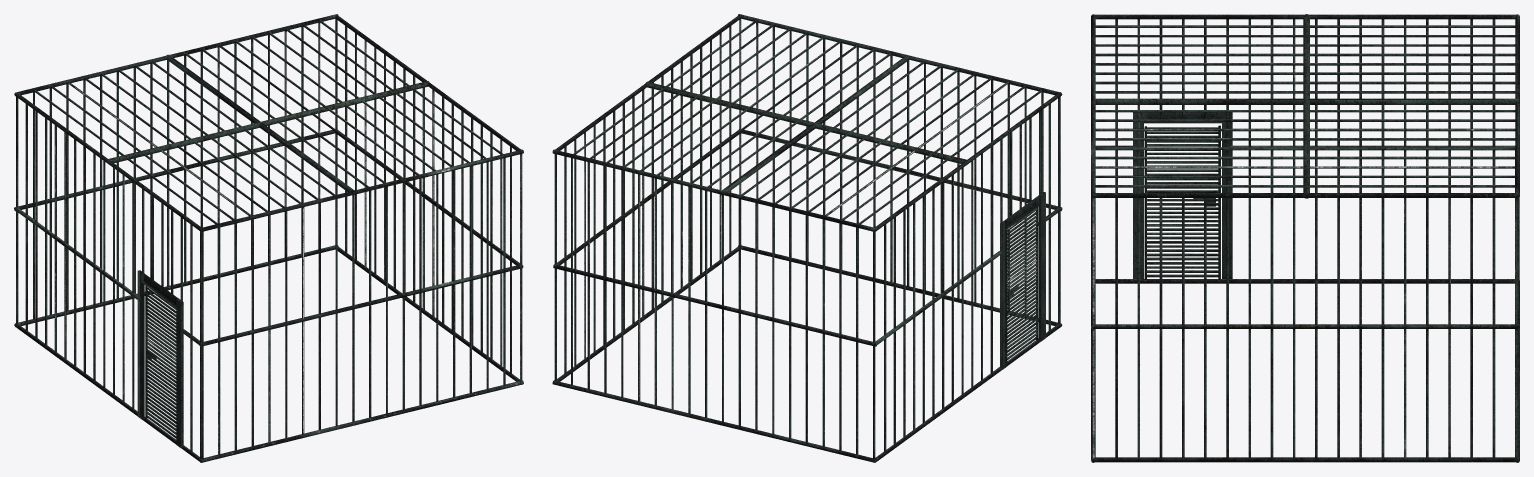
Rendered from cage.fbx.
3 renders of one model, left to right at view 1: azimuth 30°, elevation 25°; view 2: azimuth 150°, elevation 25°; view 3: azimuth 270°, elevation 25°, orthographic. The views are drawn at different scales.
Parts seen in each view (by area): view 1: Cylinder.011; view 2: Cylinder.011; view 3: Cylinder.011.
Part boxes in pixels (x1,y1,x2,y2): Cylinder.011: (14,14,523,462); Cylinder.011: (552,14,1062,462); Cylinder.011: (1091,14,1519,462).
Bounding box in the file's own units: 3621 × 2507 × 3618.
1 material, 1 textured.
